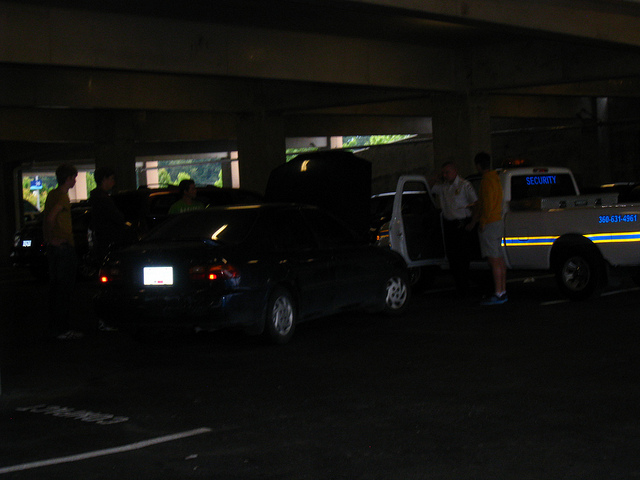car: (95, 199, 424, 346)
